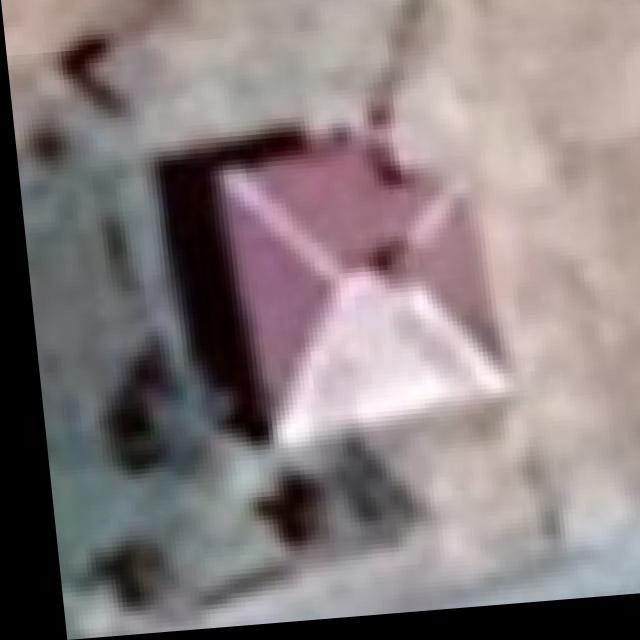Batiment: (156, 139, 502, 450)
